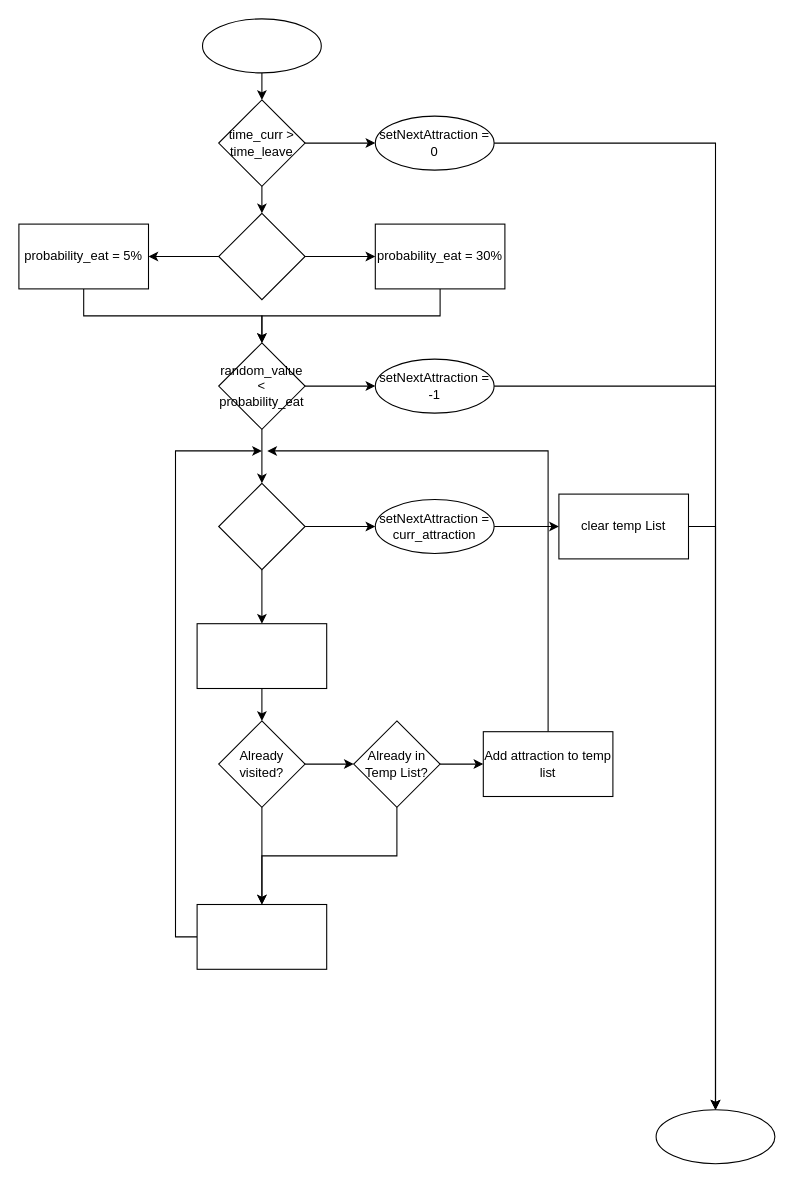
Image size: 794x1183. Some labels were removed from this diagram. The centre of each missing label's shape, as x and y in pixels:
"End" belongs at pixel 715 1136.
"Get Next Attraction based on random probability" belongs at pixel 261 655.
"Start" belongs at pixel 261 45.
"time_curr between 11 and 12" belongs at pixel 261 256.
"valid attraction found" belongs at pixel 261 936.
"valid attraction found?" belongs at pixel 261 526.
